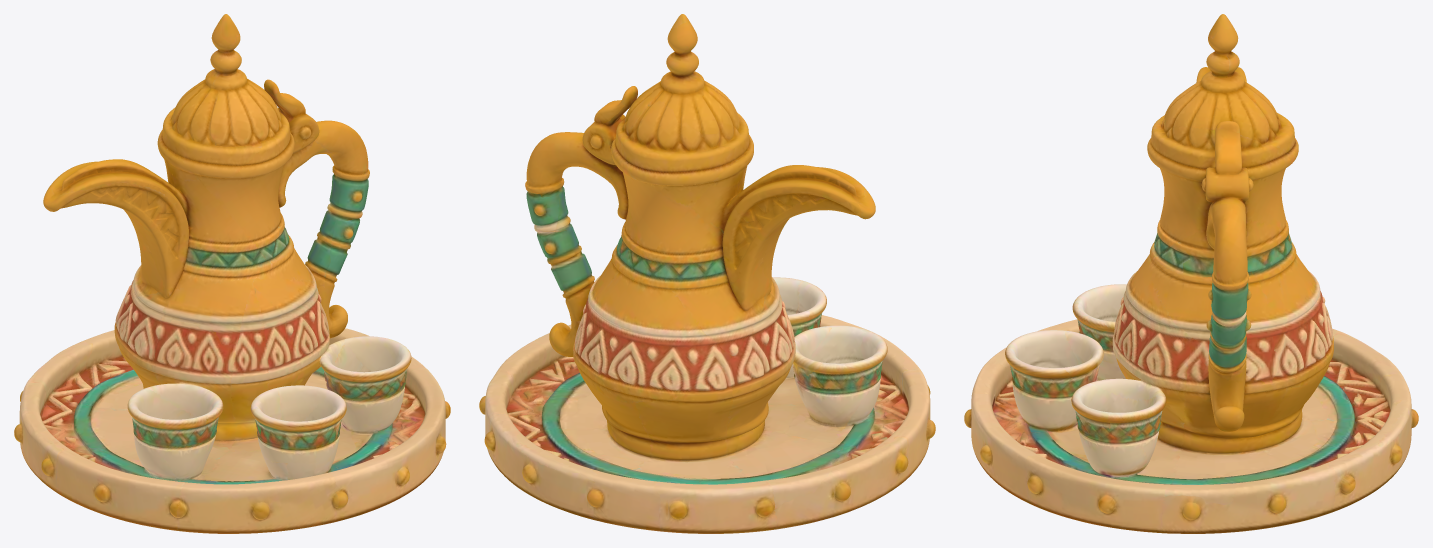
The model's file is Meshy_AI_model.glb.
3 views of the same model, side by side, from view 1: azimuth 30°, elevation 25°; view 2: azimuth 150°, elevation 25°; view 3: azimuth 270°, elevation 25° (orthographic). The views are drawn at different scales.
Visible parts, largest first — view 1: mesh_node; view 2: mesh_node; view 3: mesh_node.
Boxes of the visible parts, x1,y1,x2,y2 form: mesh_node: (14,14,450,533); mesh_node: (479,14,935,533); mesh_node: (964,14,1418,533).
Bounding box in the file's own units: 1.79 × 1.9 × 1.79.
Materials: 1 (1 with a texture image).
